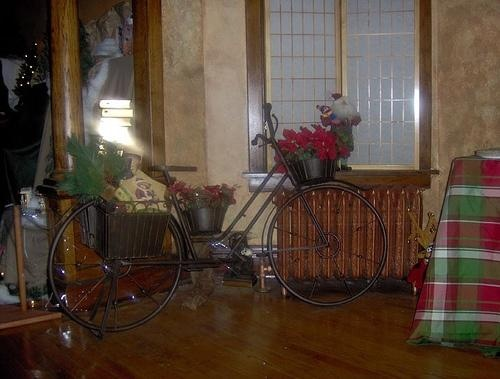bicycle: (50, 102, 390, 335)
pottedplant: (54, 137, 128, 199), (279, 123, 342, 186), (174, 182, 241, 237)
